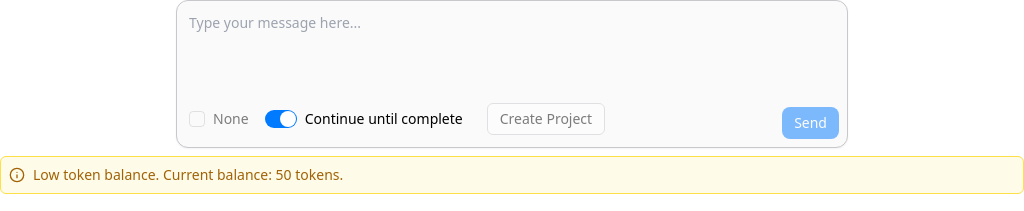
ChatInput Component › Affordability UI and Button State › displays a low balance warning when canAffordNext is true but lowBalanceWarning is also true
Step 1. Type "test" into the text box with test id "chat-input-textarea" → (489, 58), box x1=189 y1=13 x2=789 y2=103
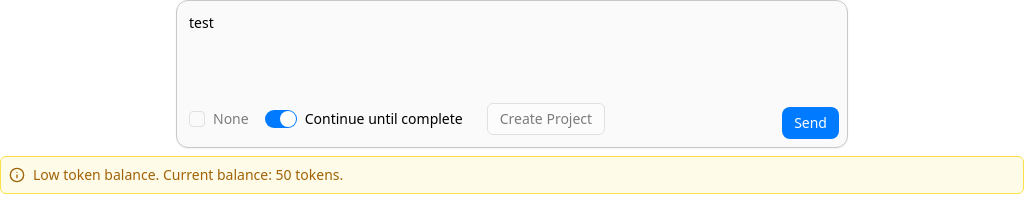
Expected: the element with test id "low-balance-alert" is shown, x1=0 y1=156 x2=1023 y2=194
Now the button with test id "send-message-button" is enabled, box x1=782 y1=107 x2=839 y2=139
